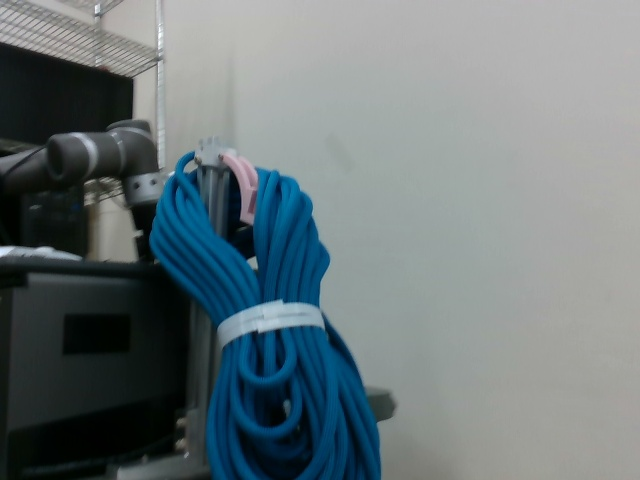rope: (147, 147, 389, 480)
